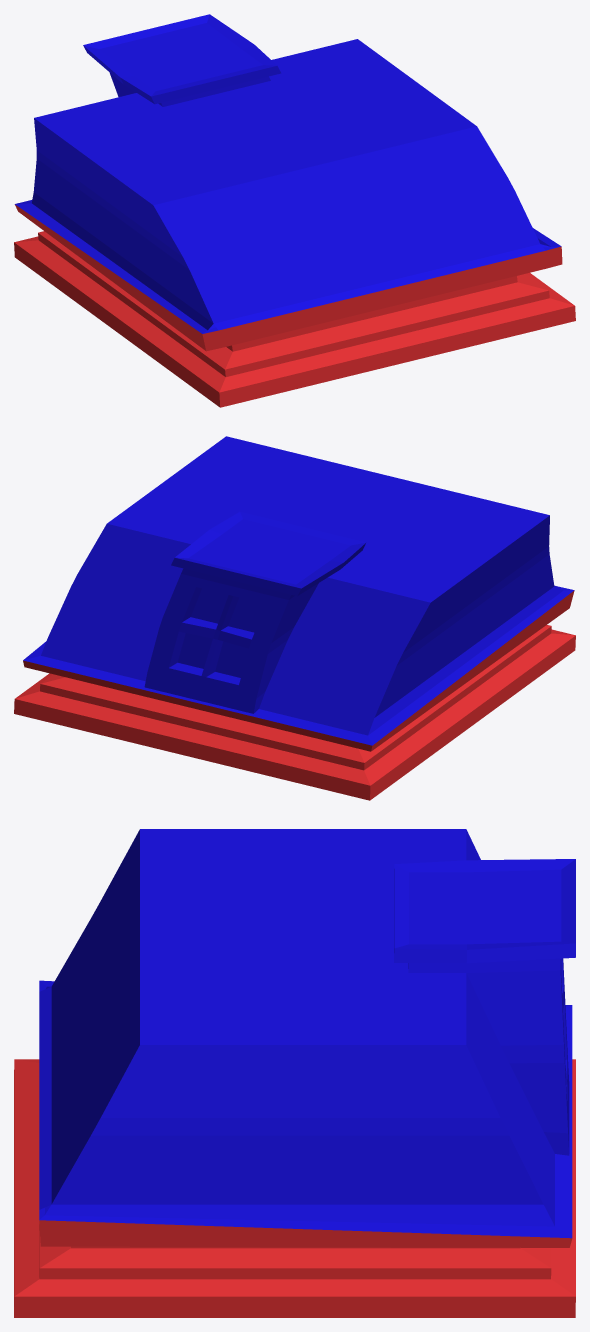
The model's file is SM_BuildingRoof_01.fbx.
The picture shows the model from 3 angles, top to bottom: view 1: azimuth 30°, elevation 25°; view 2: azimuth 150°, elevation 25°; view 3: azimuth 270°, elevation 25°; orthographic projection. The views are drawn at different scales.
Parts seen in each view (by area): view 1: SM_BuildingRoof_01; view 2: SM_BuildingRoof_01; view 3: SM_BuildingRoof_01.
Boxes of the visible parts, bbox=[...] form: SM_BuildingRoof_01: bbox=[14, 14, 575, 407]; SM_BuildingRoof_01: bbox=[14, 436, 575, 800]; SM_BuildingRoof_01: bbox=[14, 829, 575, 1317].
Size of the model in its own units: 7.65 by 3.8 by 7.24.
